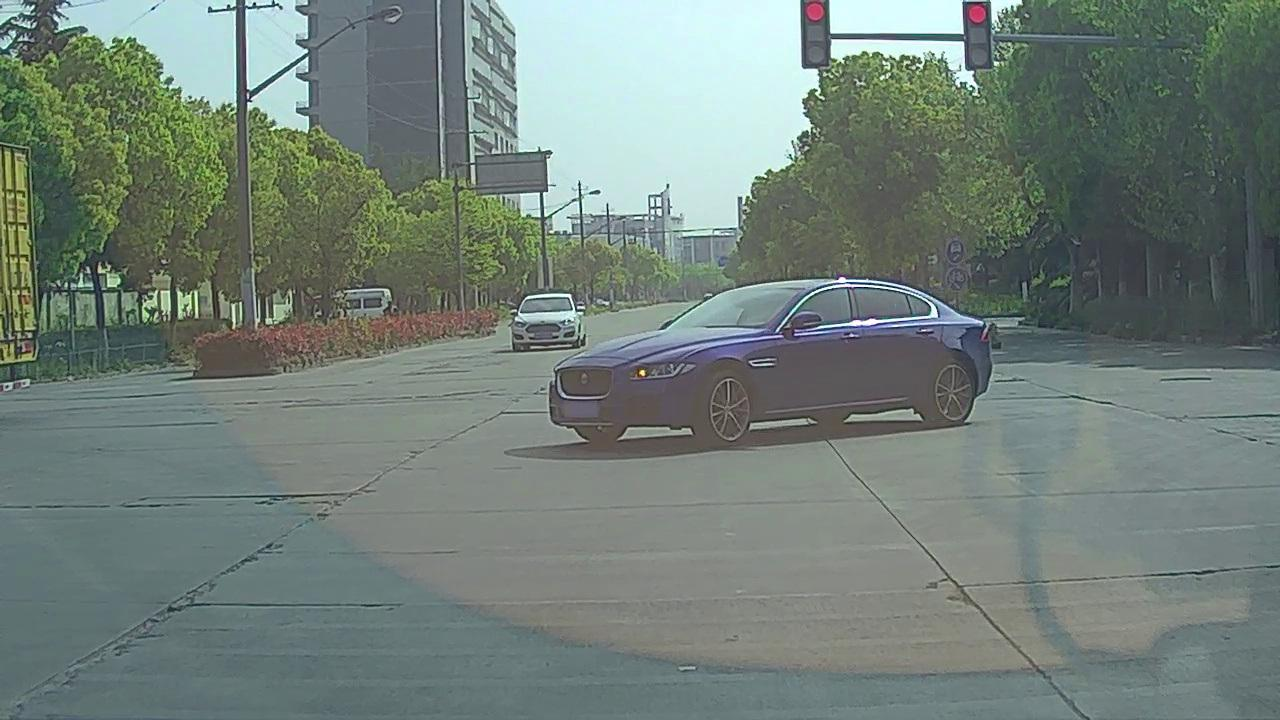traffic_light: (963, 2, 994, 67), (799, 3, 829, 68)
